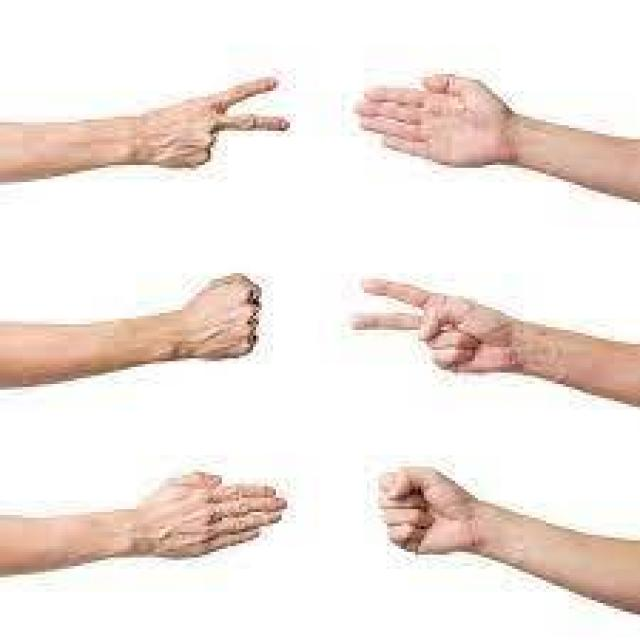paper: (349, 60, 548, 210), (124, 464, 305, 604)
rock: (114, 232, 293, 406), (354, 453, 508, 609)
scirssors: (314, 232, 574, 403), (103, 48, 308, 206)
